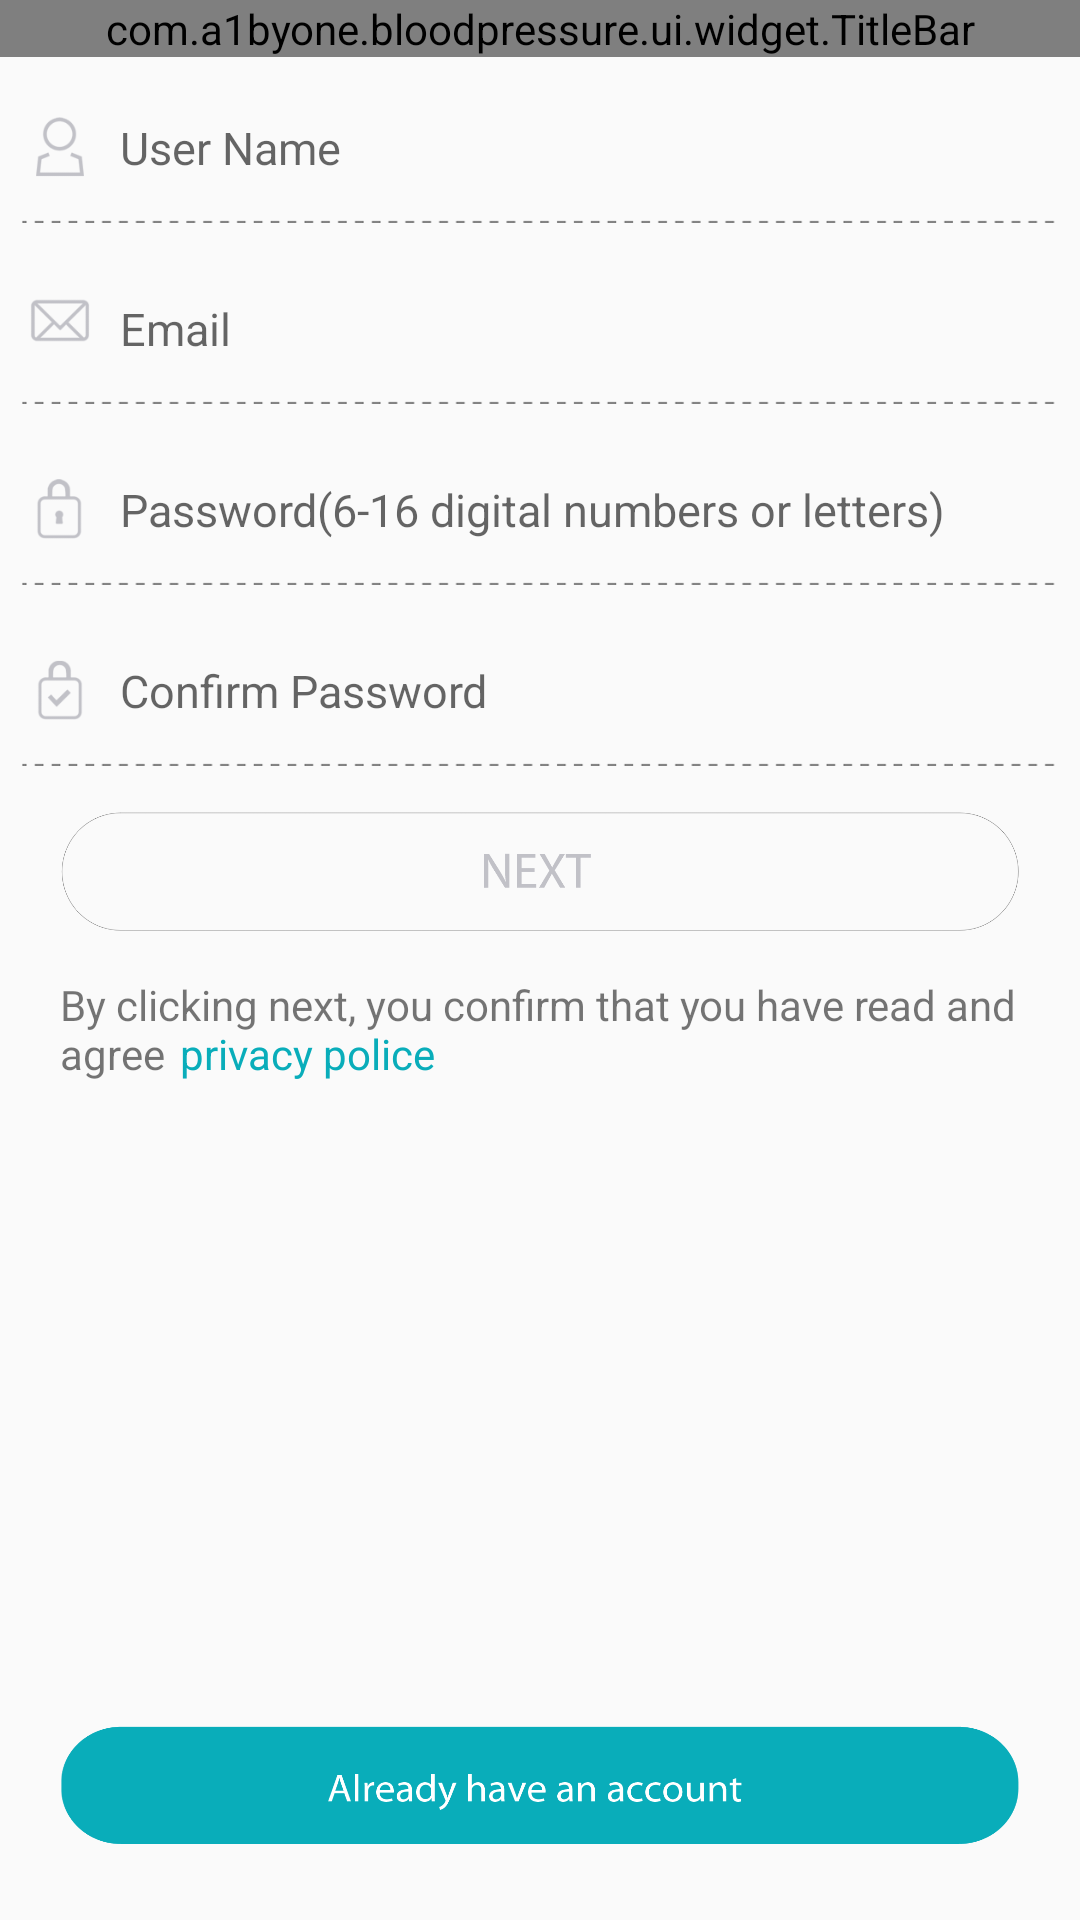

Screen size 1080×1920. Icon name, then its center in pixels as (x=x, y=y):
geren: (x=60, y=146)
youxiang: (x=60, y=320)
